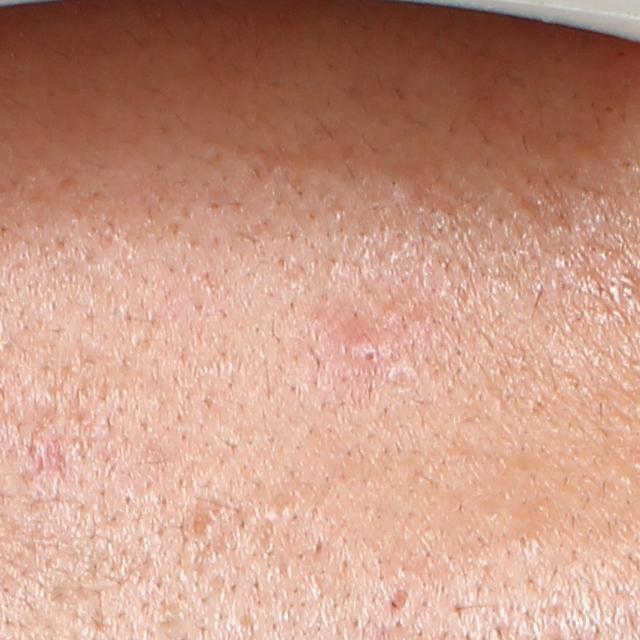comedo: (196, 514, 218, 539), (362, 345, 381, 364)
